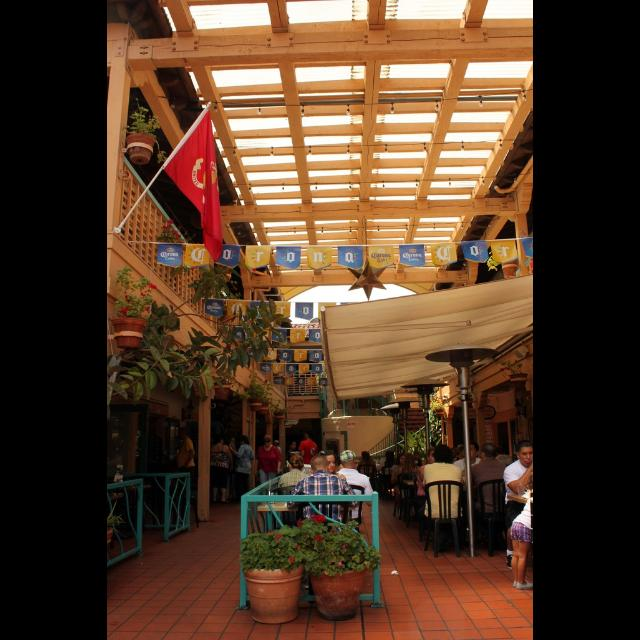Flower: (313, 513, 325, 521), (286, 556, 294, 564), (122, 306, 128, 316), (148, 283, 156, 289), (275, 533, 283, 539), (374, 548, 380, 554), (174, 234, 182, 238), (167, 219, 173, 223), (268, 529, 272, 535), (276, 402, 280, 406)
